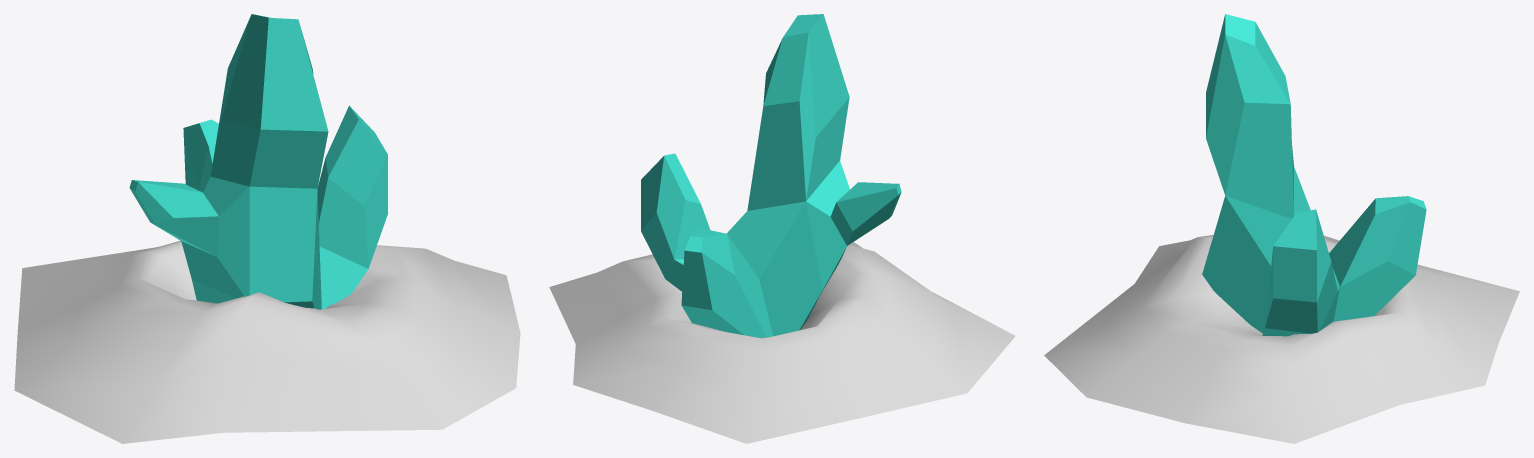
File: Crystal_Floor.fbx
The picture shows the model from 3 angles, left to right: view 1: azimuth 30°, elevation 25°; view 2: azimuth 150°, elevation 25°; view 3: azimuth 270°, elevation 25°; orthographic projection. The views are drawn at different scales.
Parts seen in each view (by area): view 1: pTorus1, pCube1; view 2: pTorus1, pCube1; view 3: pTorus1, pCube1.
Boxes of the visible parts, box(x1,y1,x2,y2) form: pTorus1: box(14, 240, 520, 443); pCube1: box(129, 14, 387, 309); pTorus1: box(549, 242, 1015, 443); pCube1: box(641, 14, 901, 337); pTorus1: box(1044, 235, 1519, 443); pCube1: box(1202, 14, 1426, 336).
Bounding box in the file's own units: 7.18 × 5.06 × 6.91.
